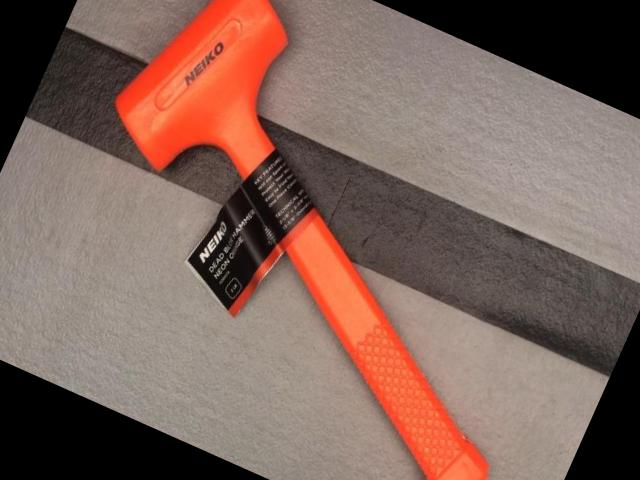hammer: (14, 0, 636, 480)
